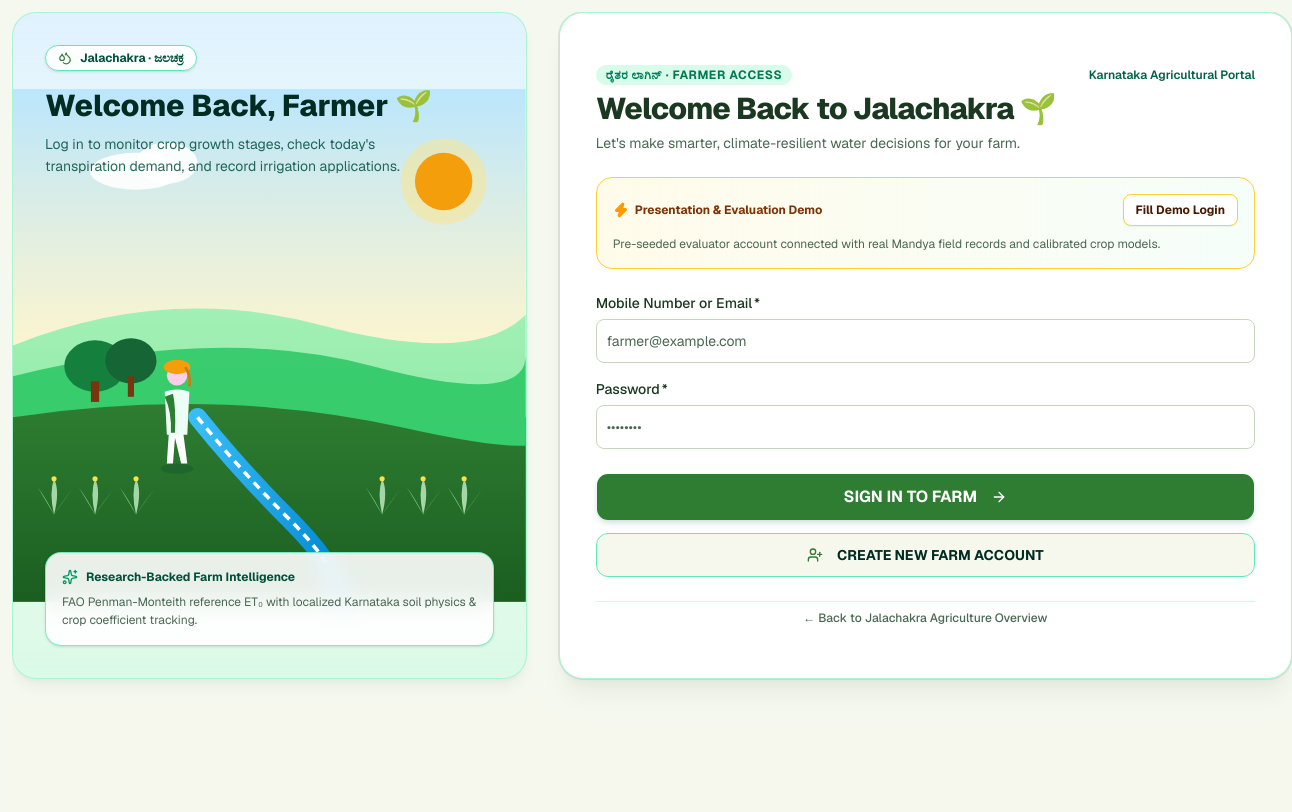
Test case: a rejected sign-in › explains the failure in the farmer's terms, not the backend's code
Type "demo@example.com" into the field labelled "Mobile Number or Email*".
click(925, 341); type("demo@example.com")  # box [596,319,1255,363]
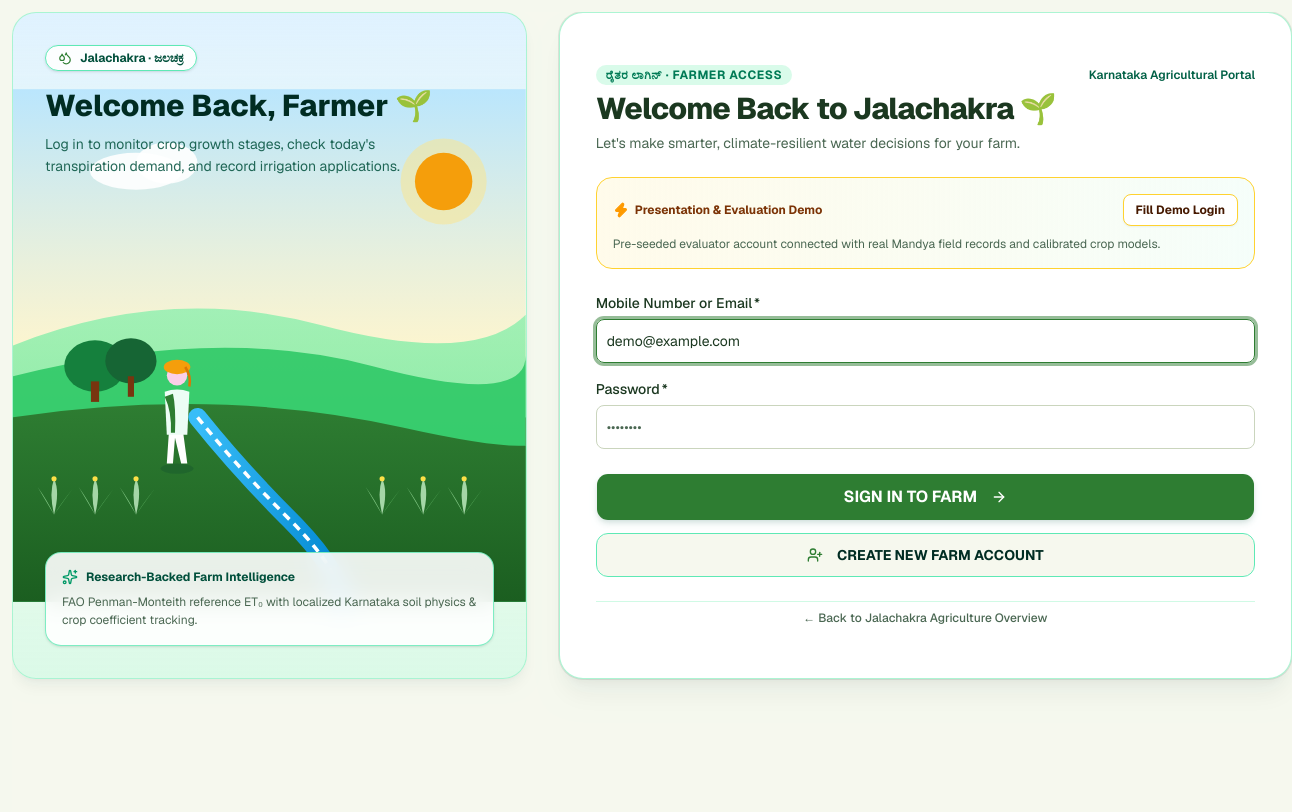
Type "wrong-password" into the password field labelled "Password*".
click(925, 427); type("wrong-password")  # box [596,405,1255,449]
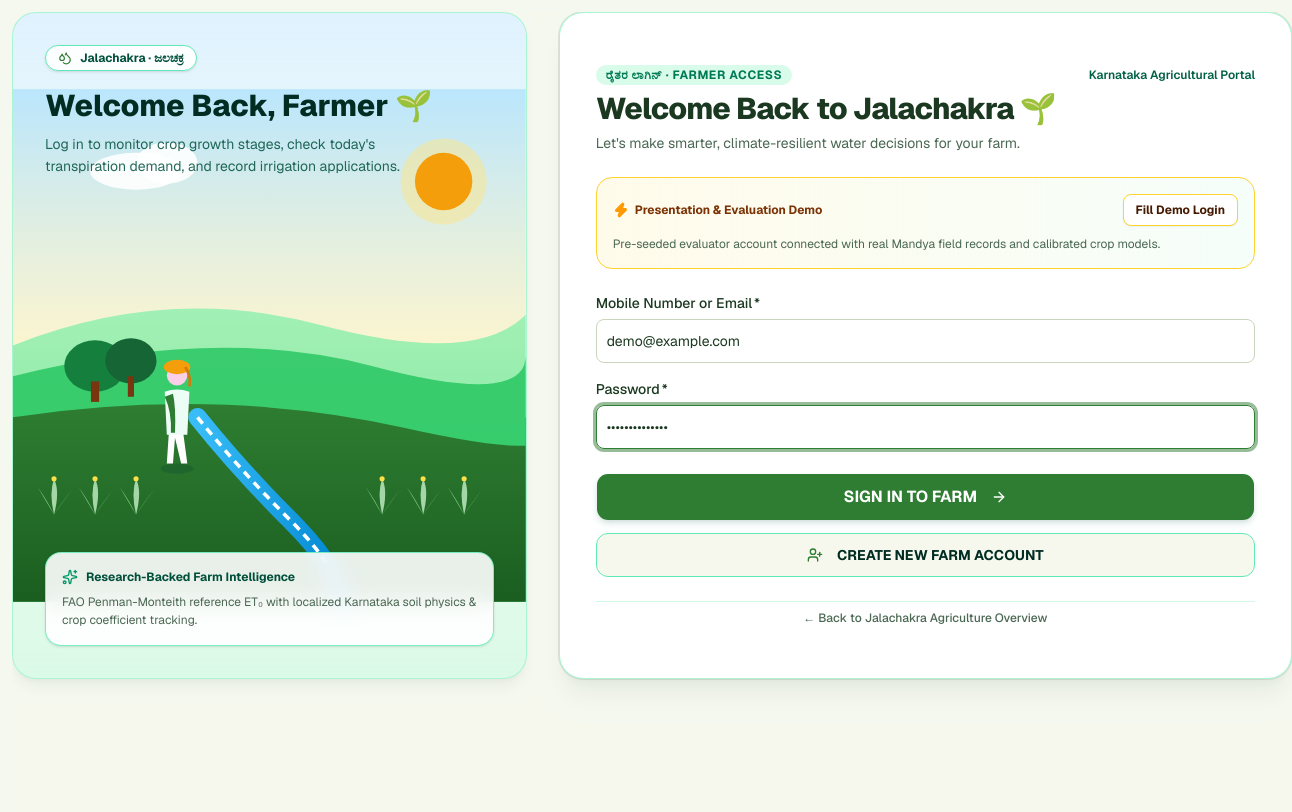
Click the button "SIGN IN TO FARM".
click(925, 497)  # box [596,473,1255,521]
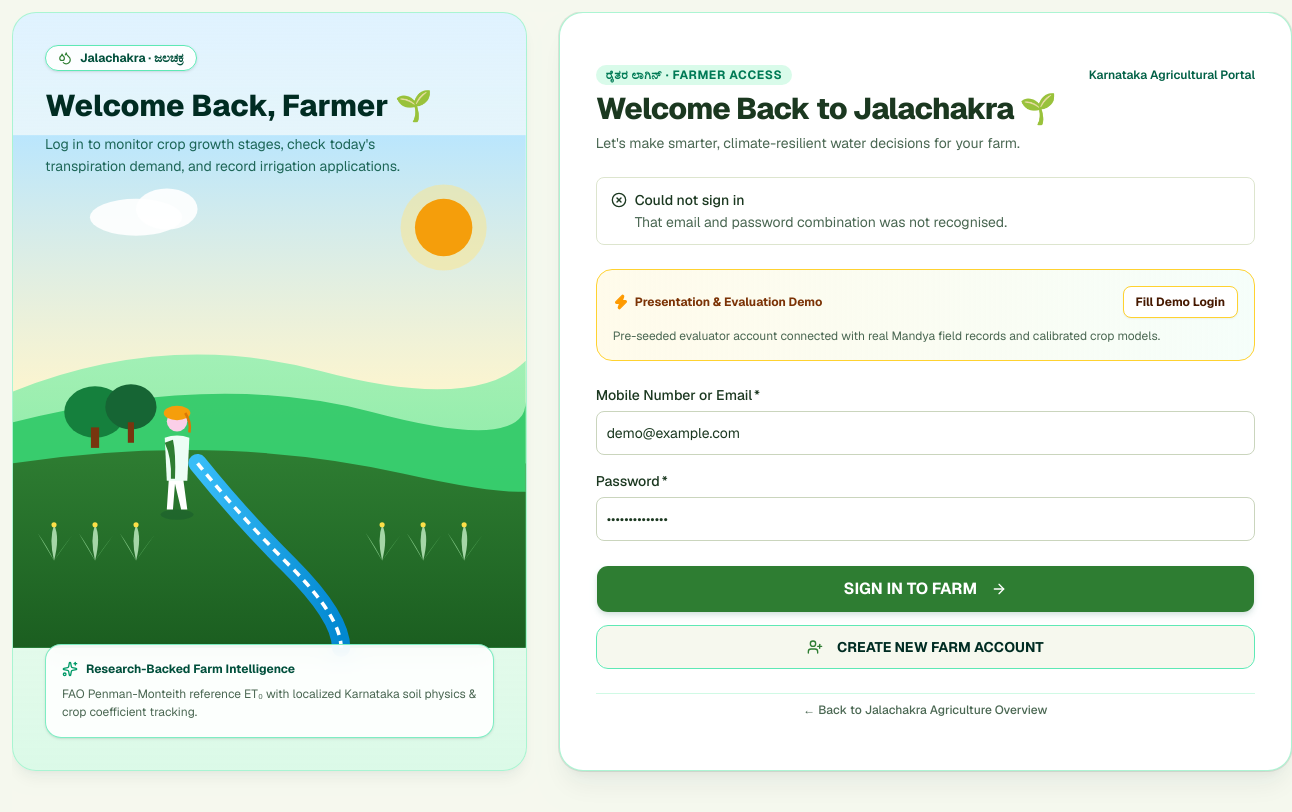
Check: the text "That email and password combination was not recognised." is shown, box [635,213,1007,231]
